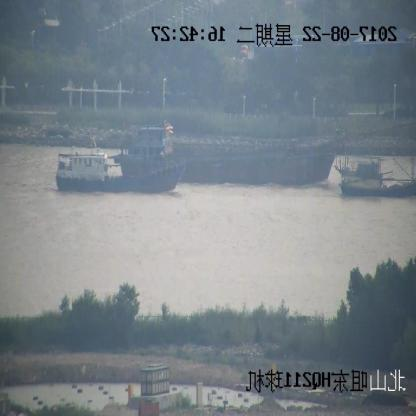Fishing Boat: (56, 146, 183, 194), (335, 156, 416, 199)
